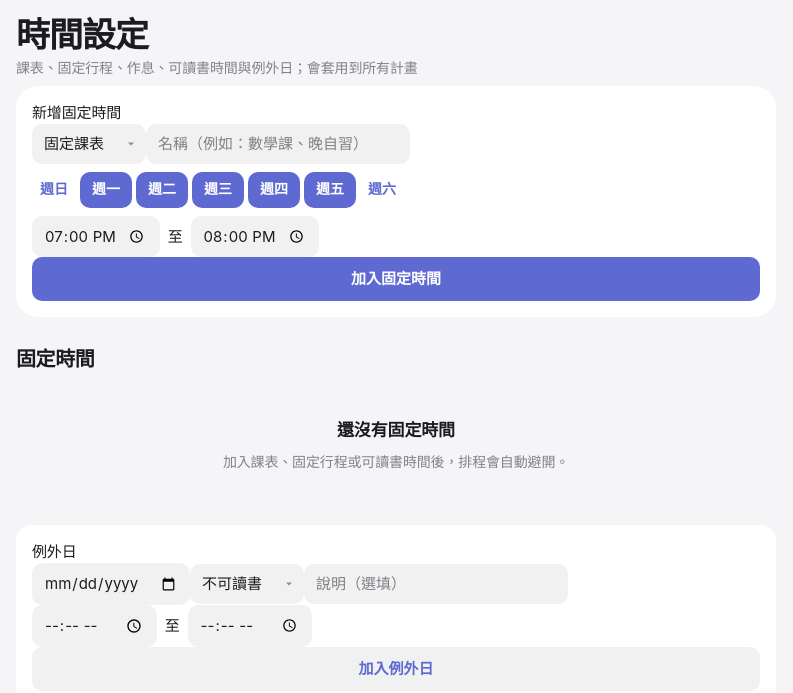
固定時間新增失敗復原 › POST 已提交但回應遺失時讀回確認且不重送
The width and height of the screenshot is (793, 693).
Expected: the text "還沒有固定時間" is shown, x1=337 y1=420 x2=455 y2=440
Step 1. Type "晚自習" into the field with placeholder "名稱（例如：數學課、晚自習）" → (278, 144), box x1=146 y1=124 x2=410 y2=164
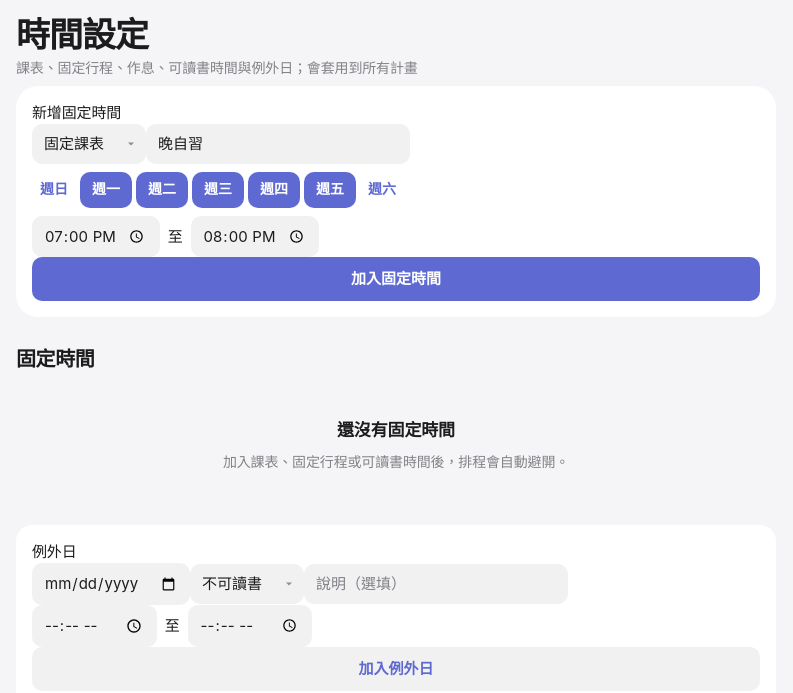
Step 2. Click the button "加入固定時間" → (396, 279), box x1=32 y1=257 x2=760 y2=301
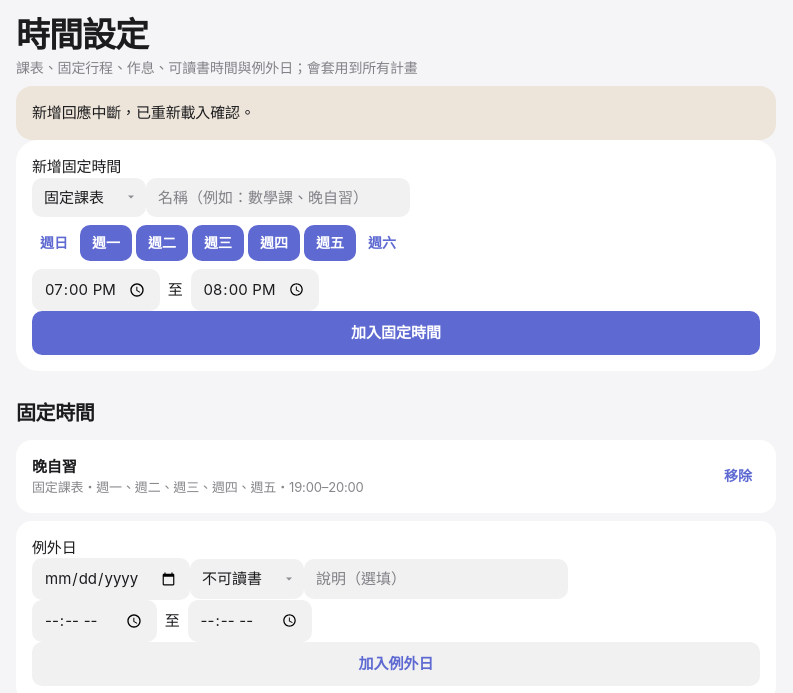
Expected: the message shows "已重新載入確認", x1=32 y1=103 x2=255 y2=122
Expected: the field with placeholder "名稱（例如：數學課、晚自習）" is empty, x1=146 y1=178 x2=410 y2=217
